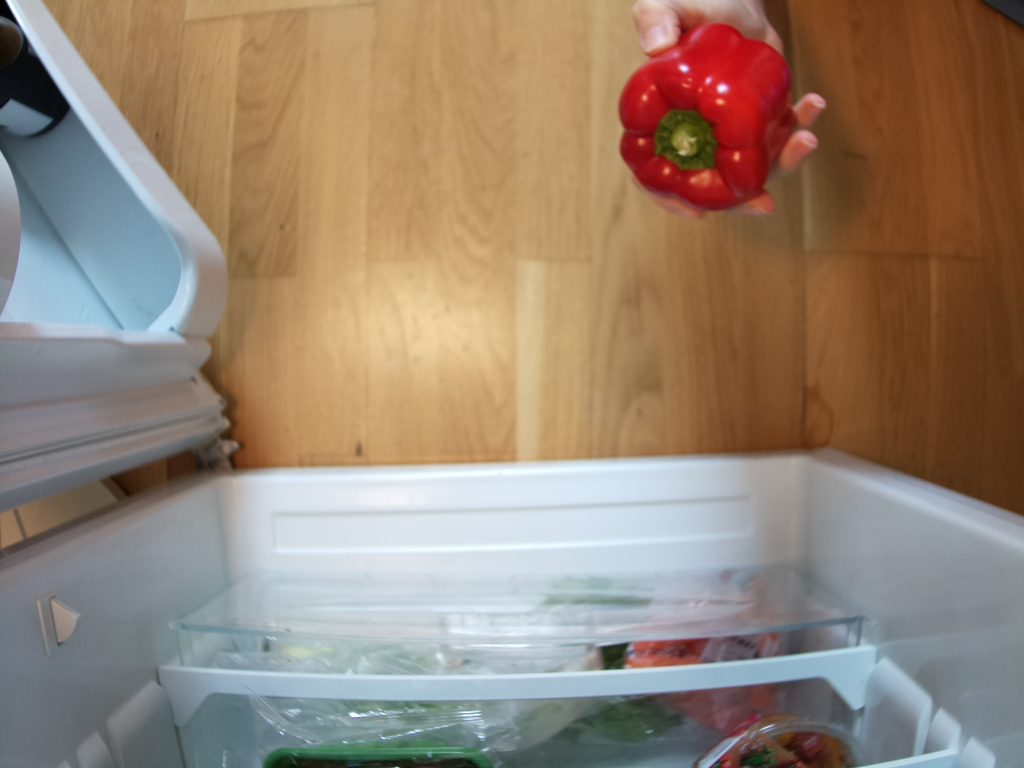pepper: (617, 24, 797, 210)
